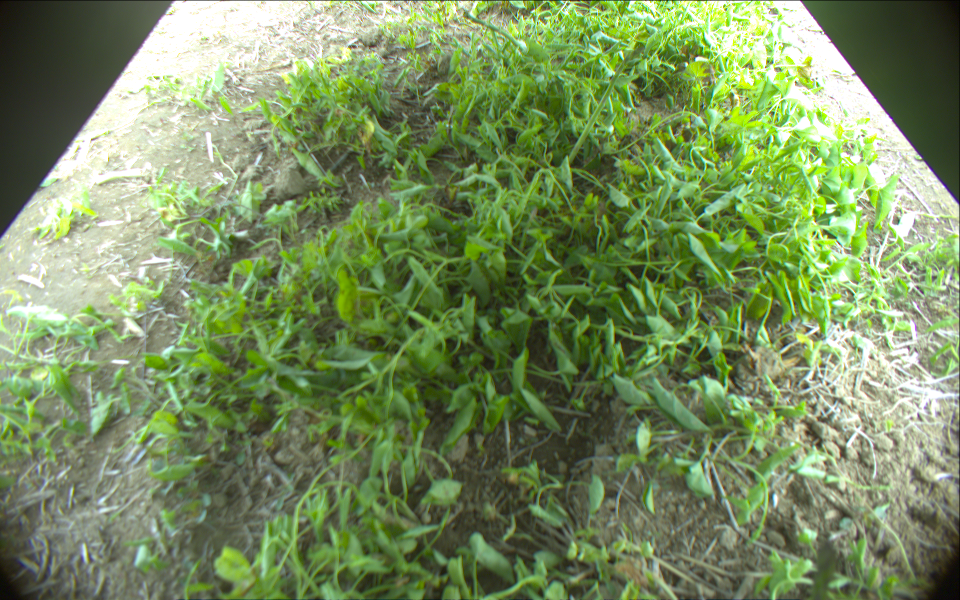aspa: (565, 50, 633, 166), (462, 10, 525, 53)
